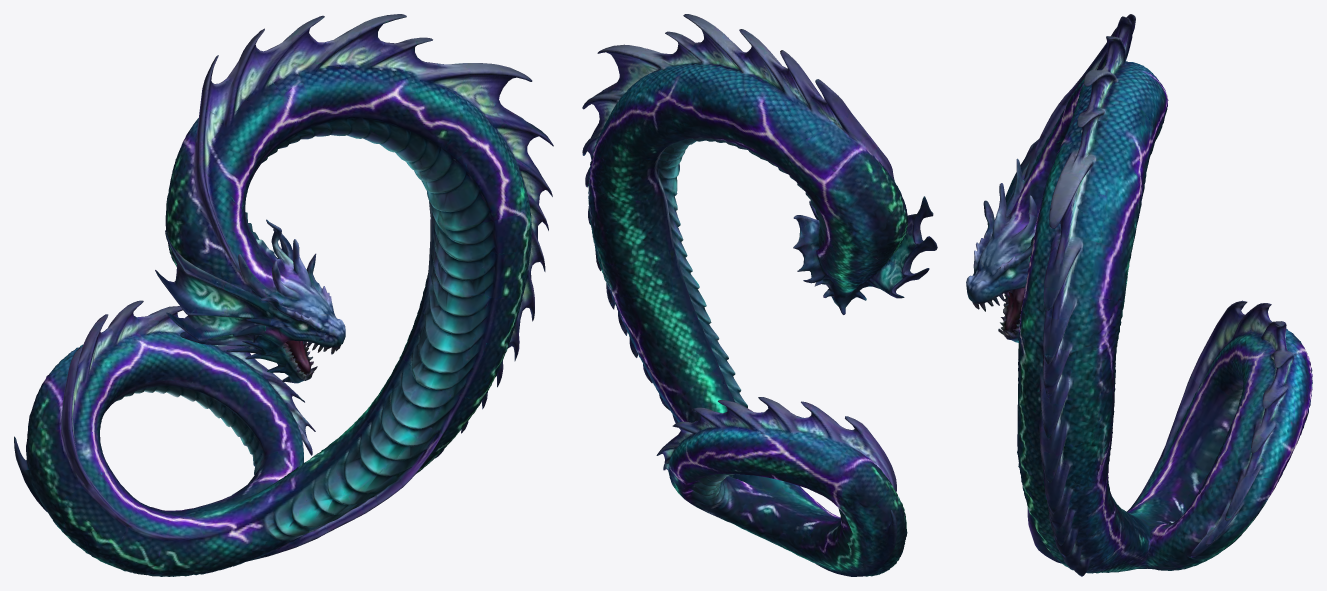
The model's file is mini_tc16.glb.
3 renders of one model, left to right at view 1: azimuth 30°, elevation 25°; view 2: azimuth 150°, elevation 25°; view 3: azimuth 270°, elevation 25°, orthographic. The views are drawn at different scales.
Size of the model in its own units: 1.62 by 1.9 by 1.03.
1 material, 1 textured.
